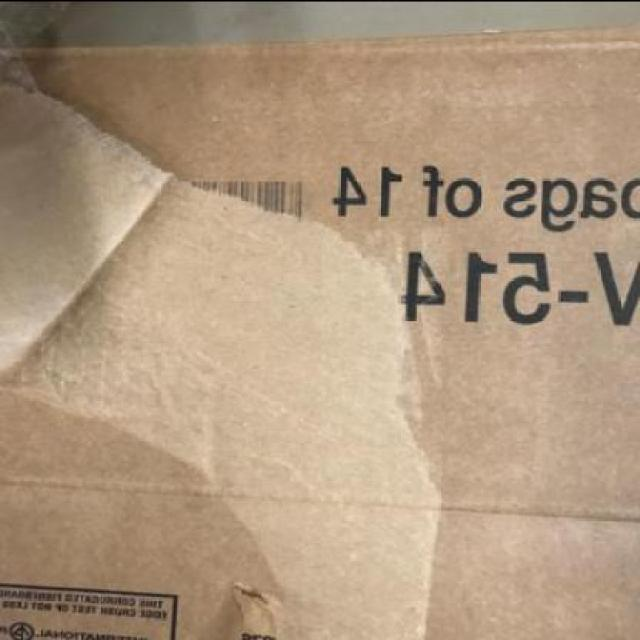CARDBOARD: (1, 19, 640, 638)
